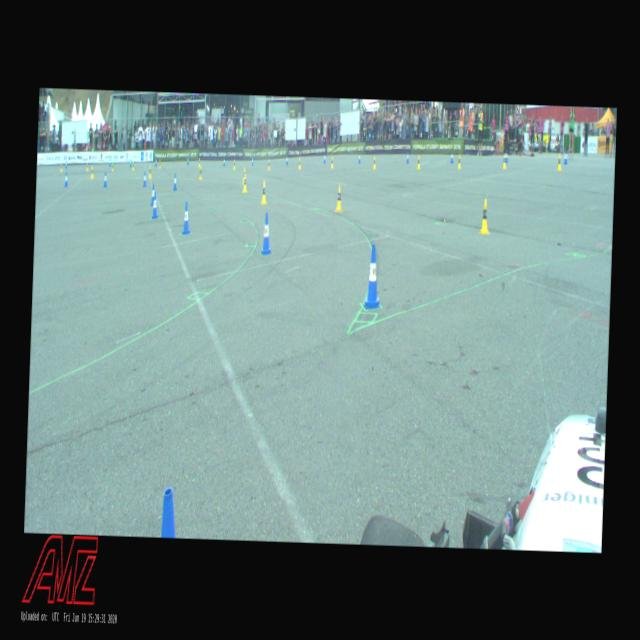blue_cone: (362, 243, 382, 310), (160, 488, 177, 538), (260, 212, 272, 255), (182, 202, 191, 234), (152, 192, 158, 218), (172, 173, 178, 191), (150, 183, 154, 206), (103, 171, 108, 187), (143, 171, 147, 187), (64, 171, 68, 187), (564, 150, 568, 164), (505, 149, 508, 163), (451, 150, 454, 162), (324, 152, 326, 163), (358, 152, 360, 163), (406, 151, 408, 162), (286, 154, 288, 164), (155, 157, 157, 166), (186, 156, 188, 165), (223, 157, 225, 166), (252, 156, 254, 165), (130, 159, 132, 167)
yellow_cone: (479, 198, 490, 234), (336, 184, 342, 211), (261, 180, 267, 204), (242, 172, 248, 192), (556, 153, 562, 171), (502, 152, 506, 168), (457, 154, 461, 168), (148, 165, 152, 178), (372, 156, 376, 169), (242, 166, 245, 182), (90, 166, 94, 178), (416, 155, 419, 169), (199, 166, 202, 178), (233, 159, 236, 170), (298, 157, 301, 168), (268, 158, 270, 170), (331, 156, 333, 168), (60, 162, 62, 172), (159, 158, 161, 168), (198, 157, 200, 167), (86, 162, 88, 171), (111, 162, 113, 171), (132, 161, 134, 170)
